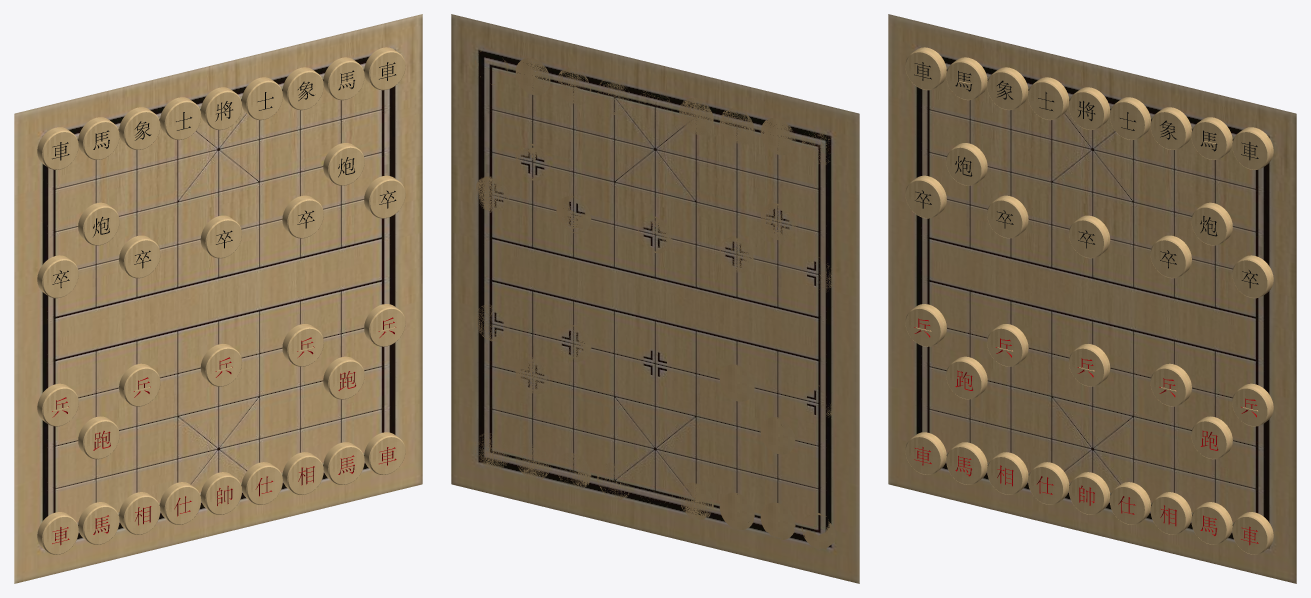
File: cheese.glb
3 views of the same model, side by side, from view 1: azimuth 30°, elevation 25°; view 2: azimuth 150°, elevation 25°; view 3: azimuth 330°, elevation 25° (orthographic).
Parts seen in each view (by area): view 1: 0, 1, 14, 15, 33, 28, 30, 11, 10, 12, 9, 36 (+21 smaller); view 2: 0, 8, 23, 33, 22, 2, 30, 4, 3, 31, 24, 10 (+13 smaller); view 3: 0, 9, 22, 13, 14, 35, 10, 31, 1, 32, 16, 11 (+21 smaller).
Boxes of the visible parts, bbox=[...] form: 0: bbox=[14, 14, 422, 583]; 1: bbox=[37, 127, 78, 169]; 14: bbox=[200, 215, 242, 258]; 15: bbox=[282, 195, 323, 238]; 33: bbox=[119, 363, 160, 406]; 28: bbox=[323, 442, 364, 484]; 30: bbox=[78, 416, 119, 459]; 11: bbox=[323, 143, 364, 185]; 10: bbox=[78, 202, 119, 245]; 12: bbox=[37, 255, 78, 298]; 9: bbox=[364, 47, 405, 90]; 36: bbox=[364, 304, 405, 346]; 0: bbox=[451, 14, 859, 583]; 8: bbox=[515, 58, 550, 95]; 23: bbox=[719, 492, 754, 529]; 33: bbox=[719, 364, 754, 401]; 22: bbox=[760, 502, 795, 539]; 2: bbox=[760, 118, 795, 155]; 30: bbox=[760, 417, 795, 454]; 4: bbox=[679, 98, 713, 135]; 3: bbox=[719, 107, 754, 145]; 31: bbox=[515, 357, 550, 394]; 24: bbox=[679, 482, 713, 519]; 10: bbox=[760, 203, 795, 240]; 0: bbox=[888, 14, 1296, 583]; 9: bbox=[1232, 127, 1273, 169]; 22: bbox=[946, 442, 987, 484]; 13: bbox=[987, 195, 1028, 238]; 14: bbox=[1068, 215, 1110, 258]; 35: bbox=[1150, 363, 1191, 406]; 10: bbox=[946, 143, 987, 185]; 31: bbox=[1191, 416, 1232, 459]; 1: bbox=[905, 47, 946, 90]; 32: bbox=[905, 304, 946, 346]; 16: bbox=[1232, 255, 1273, 298]; 11: bbox=[1191, 202, 1232, 245].
Bounding box in the file's own units: 20 × 22 × 0.5.
Materials: 4 (2 with a texture image).
